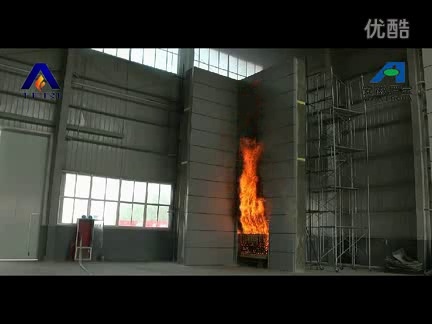fire: (238, 140, 268, 237)
